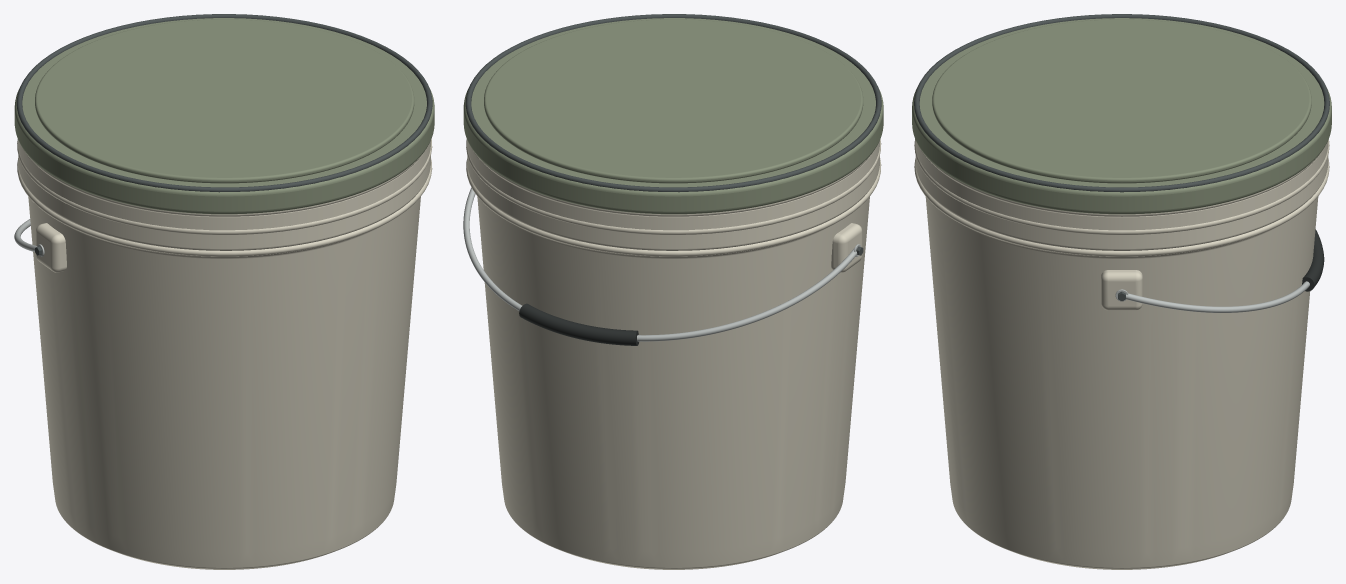
File: absorbent.fbx
The picture shows the model from 3 angles, left to right: view 1: azimuth 30°, elevation 25°; view 2: azimuth 150°, elevation 25°; view 3: azimuth 270°, elevation 25°; orthographic projection.
Visible parts, largest first — view 1: absorbent_LOD0; view 2: absorbent_LOD0; view 3: absorbent_LOD0.
Boxes of the visible parts, x1=… form: absorbent_LOD0: x1=14, y1=14, x2=434, y2=569; absorbent_LOD0: x1=463, y1=14, x2=883, y2=569; absorbent_LOD0: x1=912, y1=14, x2=1331, y2=569.
Size of what is drawn, in the model's own units: 0.3655 by 0.3755 by 0.354.
